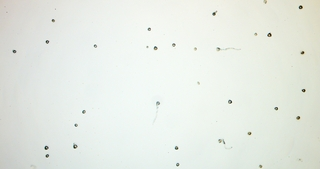germinated: (214, 45, 225, 52), (218, 136, 225, 145), (154, 100, 161, 109)
nongerminated: (226, 97, 233, 105), (294, 114, 301, 121), (173, 144, 180, 151), (174, 160, 181, 167), (43, 38, 50, 45), (300, 48, 306, 55), (265, 31, 272, 37), (252, 31, 259, 37), (211, 10, 218, 16), (300, 87, 306, 94), (273, 104, 279, 111), (246, 130, 253, 136), (256, 163, 263, 169), (191, 45, 198, 51), (80, 108, 87, 114), (72, 121, 78, 128), (72, 142, 78, 149), (170, 41, 176, 47), (146, 25, 152, 31), (92, 42, 98, 48), (50, 17, 56, 23), (11, 48, 17, 54), (43, 144, 49, 150), (44, 152, 49, 159), (298, 4, 303, 10), (152, 45, 157, 51)
